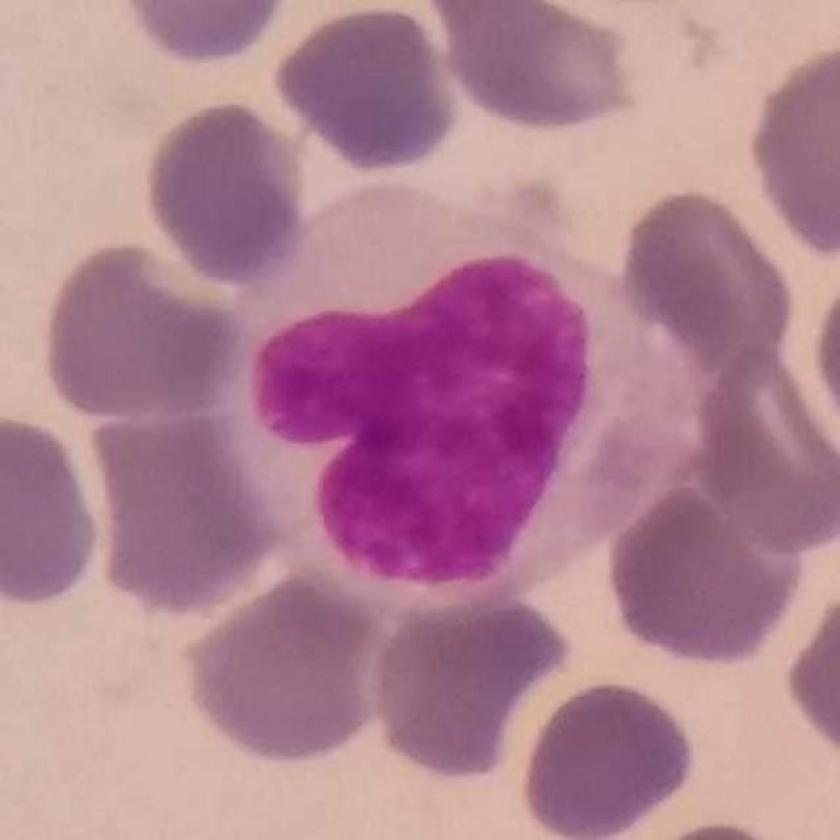monocyte: (214, 181, 699, 618)
